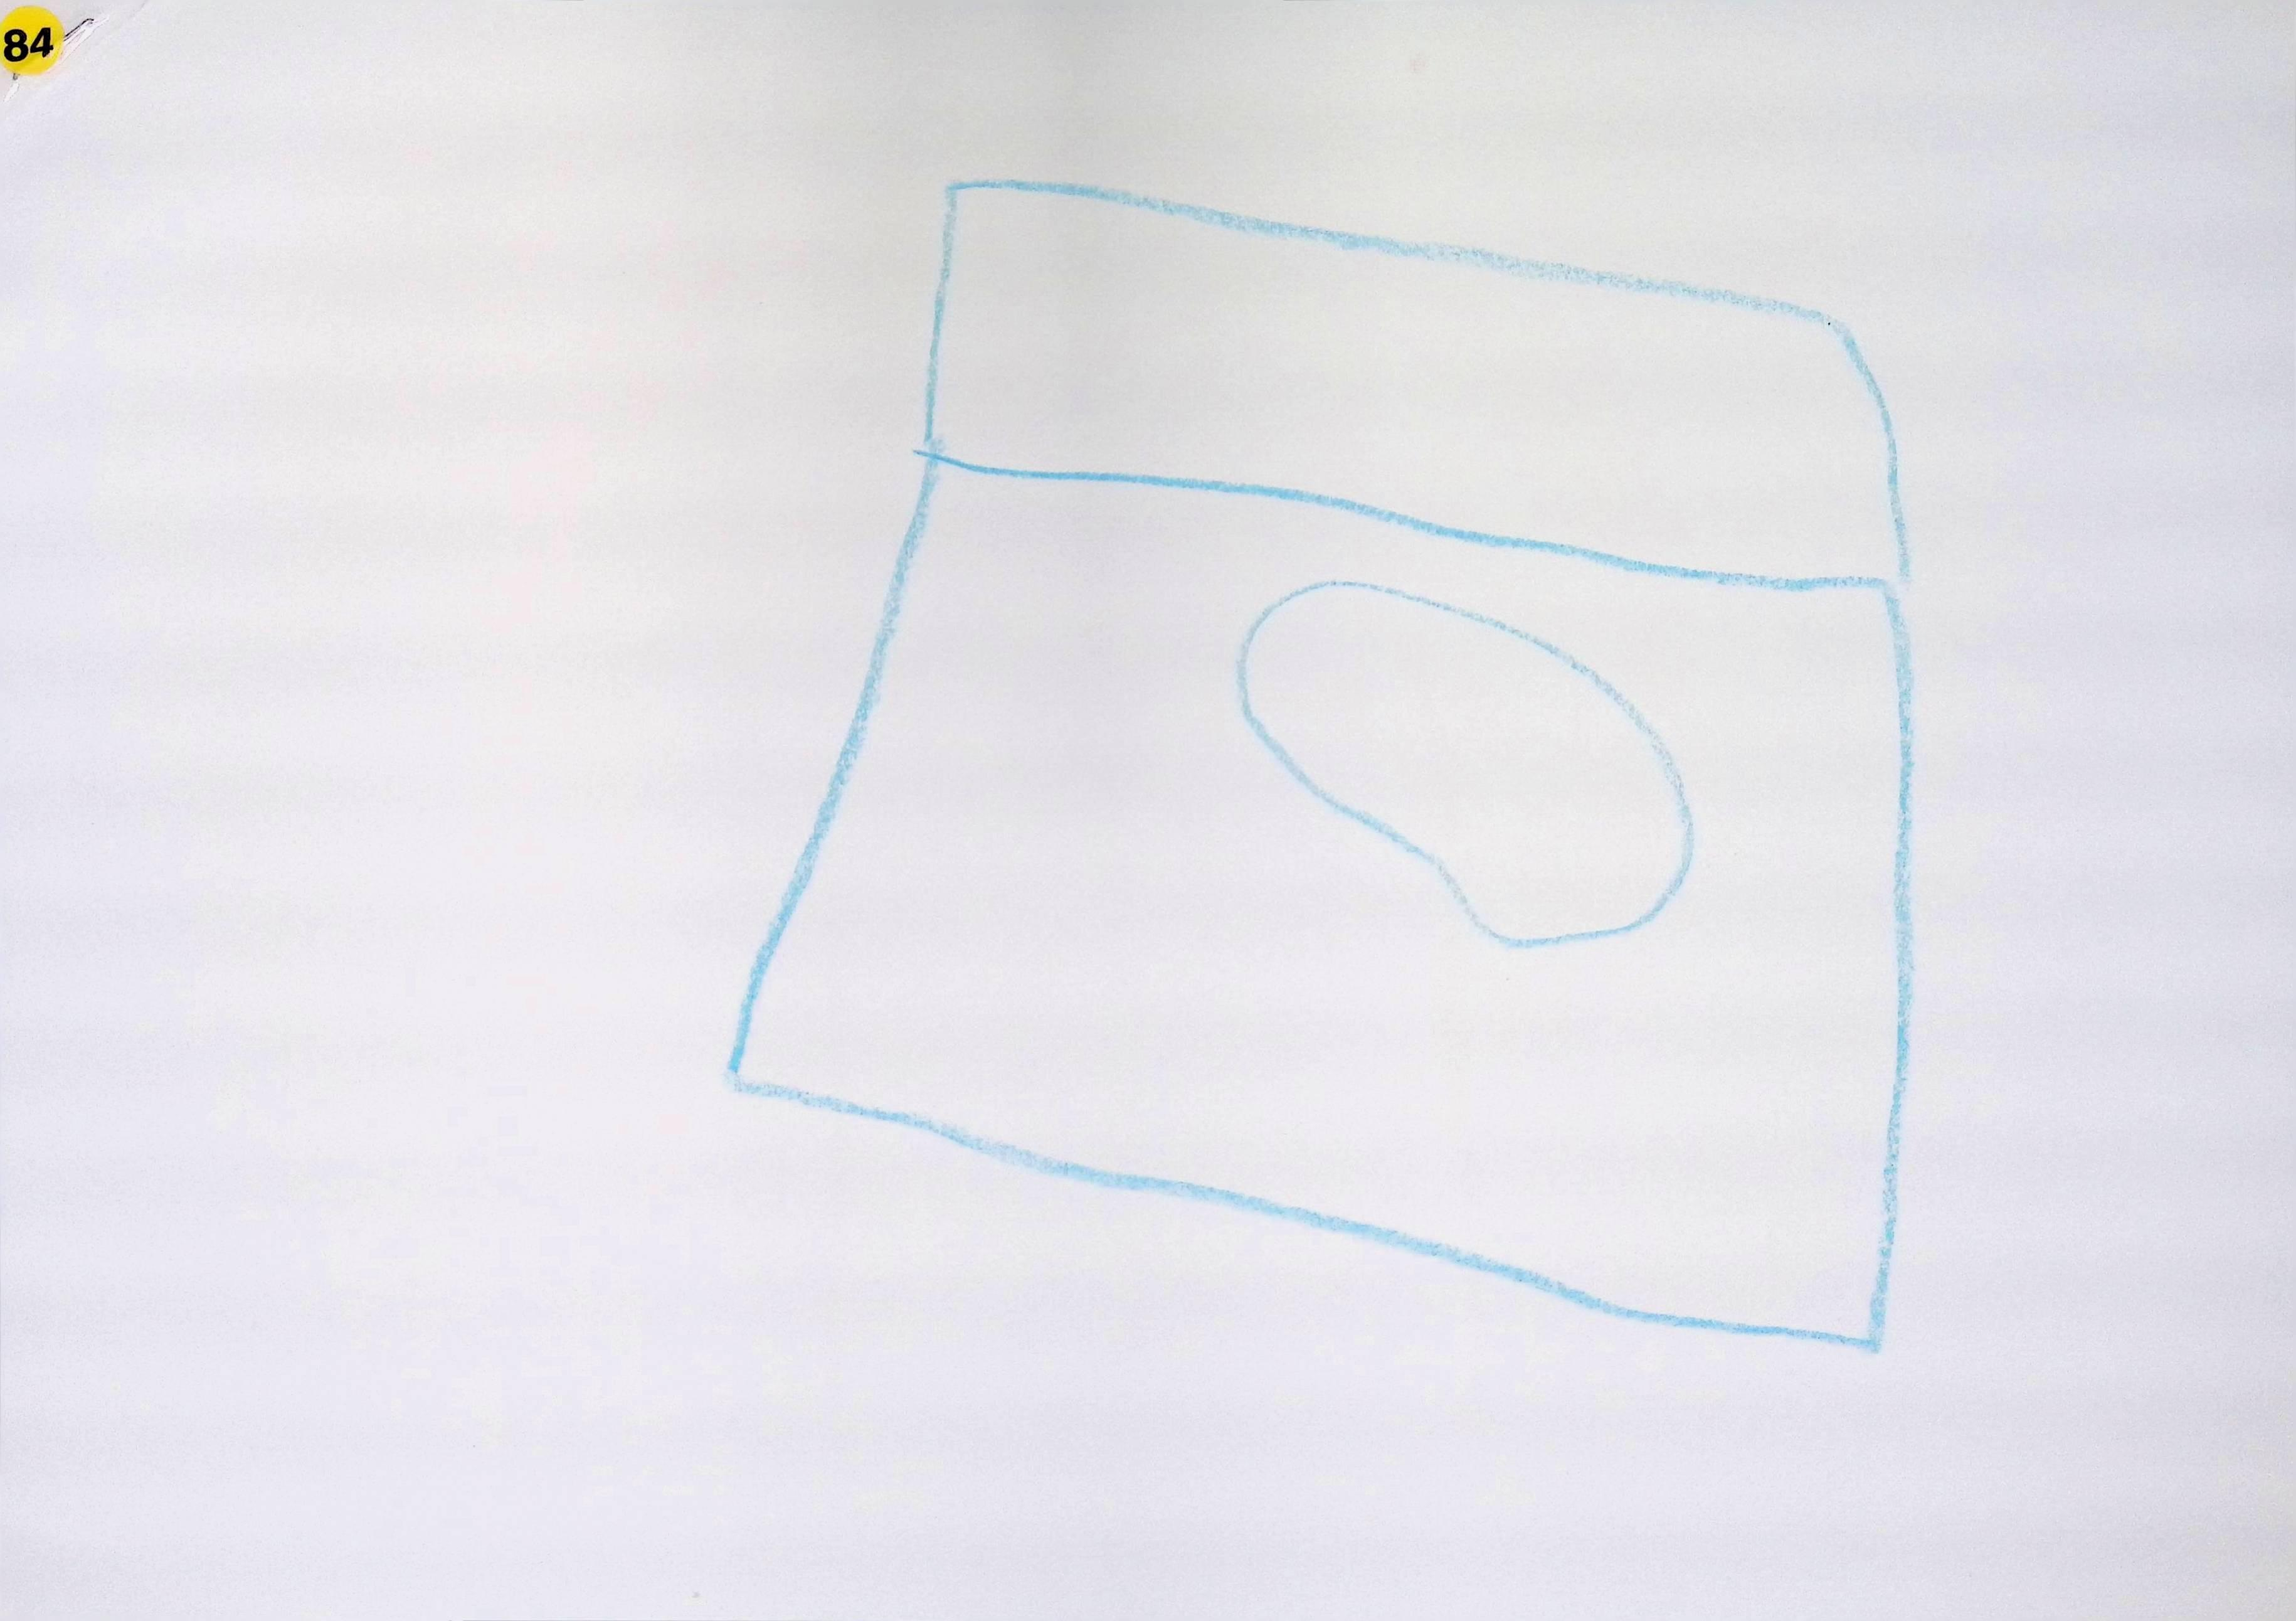house: (730, 179, 1914, 1349)
window: (1240, 581, 1694, 946)
